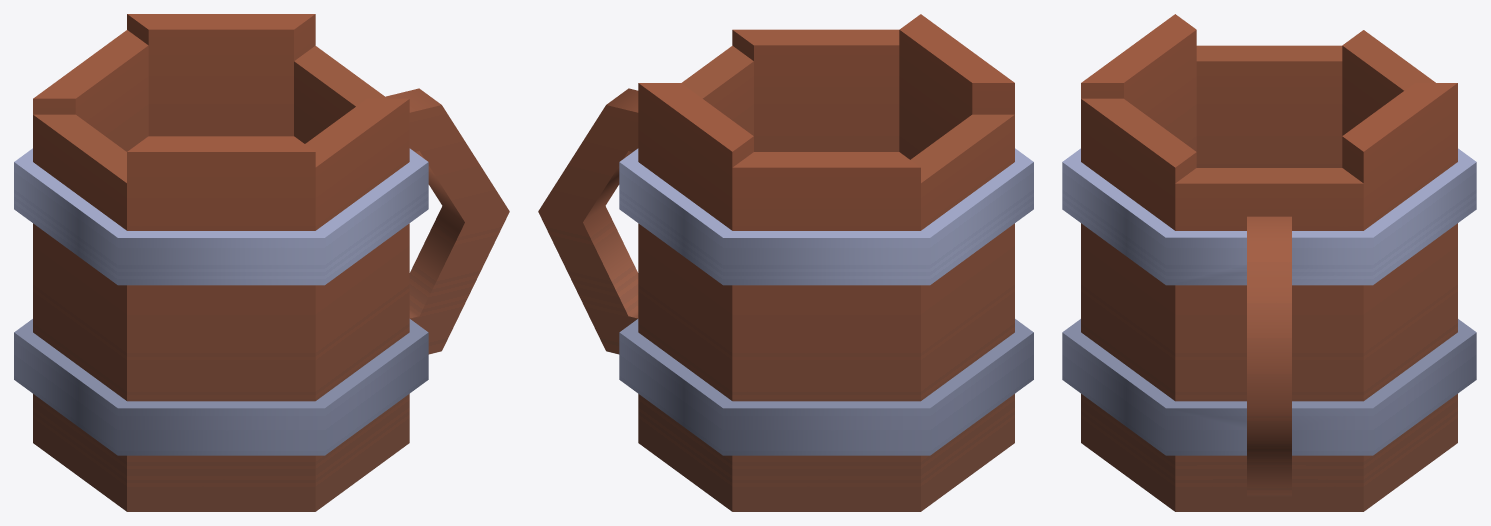
File: mug.glb
3 views of the same model, side by side, from view 1: azimuth 30°, elevation 25°; view 2: azimuth 150°, elevation 25°; view 3: azimuth 270°, elevation 25° (orthographic).
Parts seen in each view (by area): view 1: mug; view 2: mug; view 3: mug.
Part boxes in pixels (box(x1,y1,x2,y2)): mug: box(14, 14, 509, 511); mug: box(538, 14, 1033, 511); mug: box(1062, 14, 1476, 511).
Size of the model in its own units: 0.3437 by 0.2734 by 0.2851.
1 material, 1 textured.
